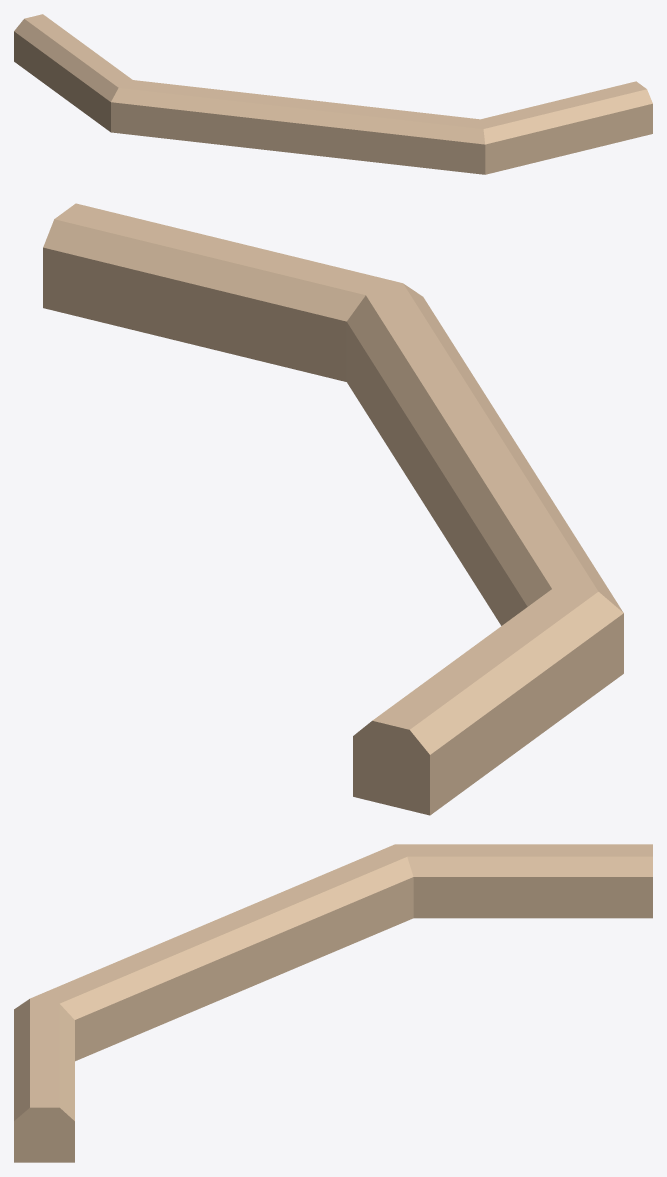
The model's file is Wall_Curved_Large_Coping.fbx.
3 views of the same model, one above another, from view 1: azimuth 30°, elevation 25°; view 2: azimuth 150°, elevation 25°; view 3: azimuth 270°, elevation 25° (orthographic). The views are drawn at different scales.
Visible parts, largest first — view 1: object1; view 2: object1; view 3: object1.
Part boxes in pixels (x1,y1,x2,y2): object1: [14, 14, 652, 174]; object1: [43, 203, 623, 815]; object1: [14, 844, 652, 1162].
Bounding box in the file's own units: 2.1 × 0.2 × 2.1.
